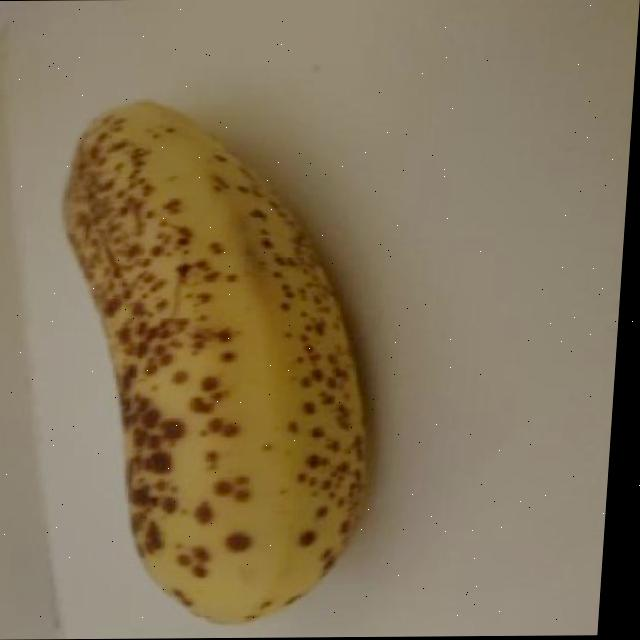banana: (26, 96, 389, 629)
